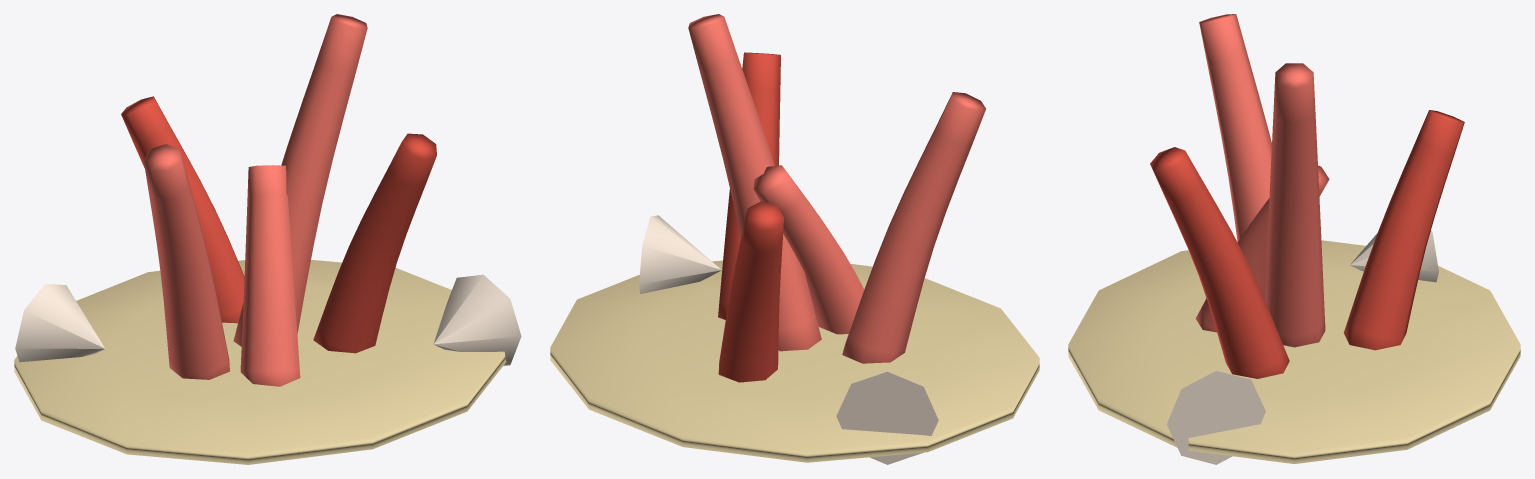
The model's file is Coral.glb.
3 renders of one model, left to right at view 1: azimuth 30°, elevation 25°; view 2: azimuth 150°, elevation 25°; view 3: azimuth 270°, elevation 25°, orthographic.
Parts seen in each view (by area): view 1: Body; view 2: Body; view 3: Body.
Part boxes in pixels (<box>): Body: <box>14,14,521,464</box>; Body: <box>550,14,1039,464</box>; Body: <box>1068,14,1520,464</box>.
Size of the model in its own units: 3.42 by 2.59 by 3.04.
Materials: 1 (1 with a texture image).
